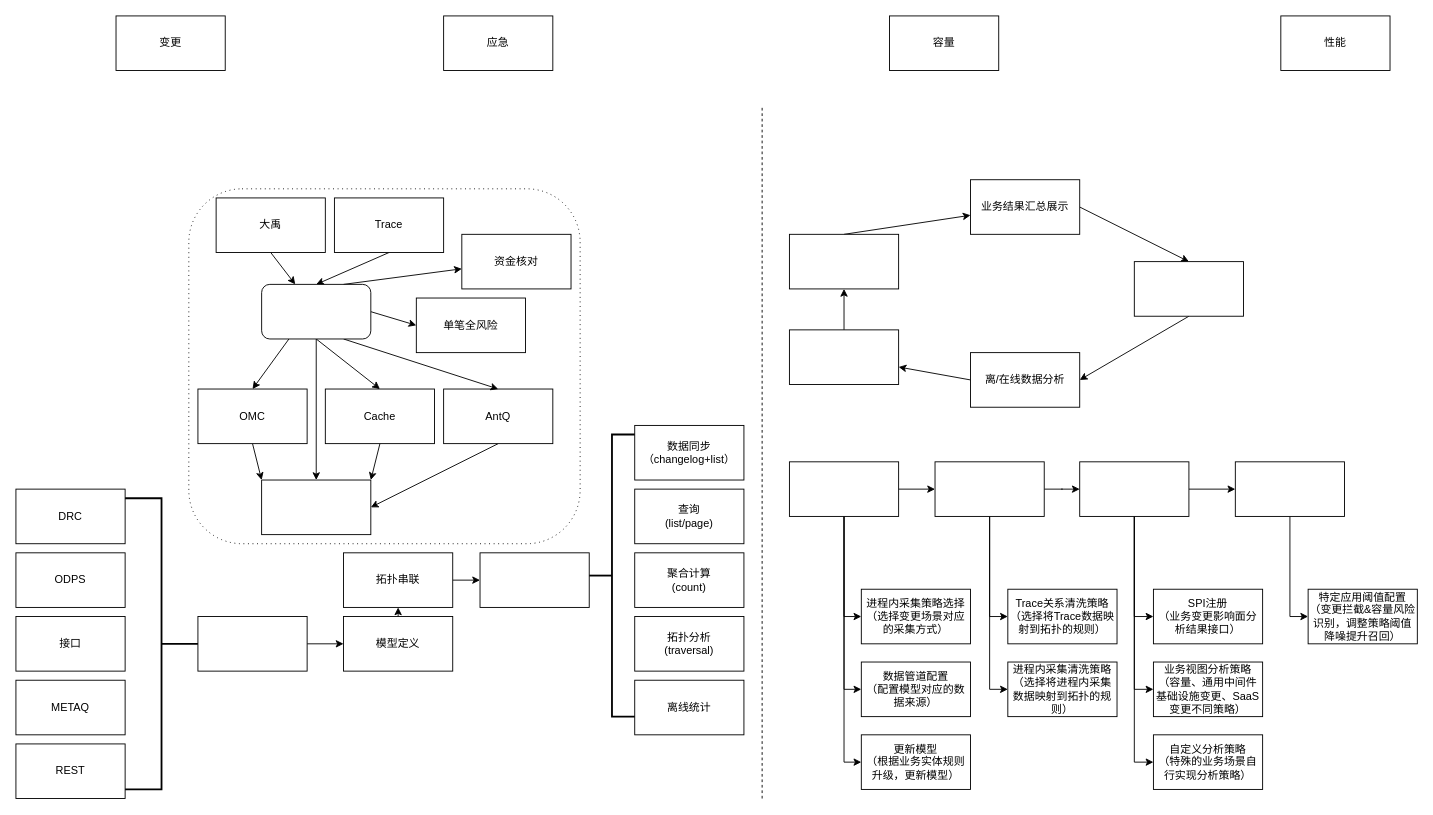
Image size: 1433x815. Some labels were removed from this diagram. The centre of each missing label's shape, as x and y in pixels:
"Infra" belongs at point (316, 507).
"影响面分析策略" belongs at point (1134, 488).
"效果评估/打标" belongs at point (1188, 288).
"数据拉取规则" belongs at point (844, 488).
"数据服务" belongs at point (534, 579).
"数据组织" belongs at point (252, 643).
"模型组装策略" belongs at point (989, 488).
"离/在线业务规则验证" belongs at point (844, 261).
"结论决策策略" belongs at point (1289, 488).
"规则更新" belongs at point (844, 356).
"部署单元" belongs at point (316, 311).
